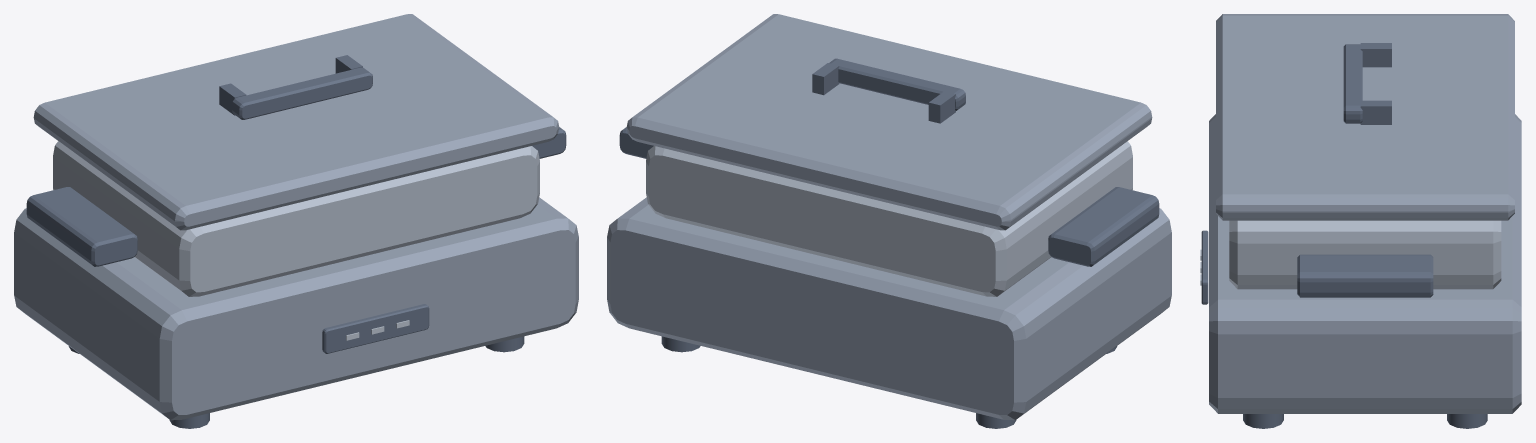
The model's file is multi-cooker.glb.
3 renders of one model, left to right at view 1: azimuth 30°, elevation 25°; view 2: azimuth 150°, elevation 25°; view 3: azimuth 270°, elevation 25°, orthographic.
Parts seen in each view (by area): view 1: body, soft, dark; view 2: body, soft, dark; view 3: body, soft, dark.
Part boxes in pixels (x1,y1,x2,y2): body: [14, 14, 578, 420]; soft: [53, 141, 539, 296]; dark: [26, 55, 566, 428]; body: [607, 14, 1171, 420]; soft: [646, 141, 1132, 296]; dark: [619, 58, 1159, 428]; body: [1209, 14, 1521, 413]; soft: [1229, 220, 1501, 289]; dark: [1201, 43, 1487, 428].
Size of the model in its own units: 0.408 by 0.2175 by 0.2365.
